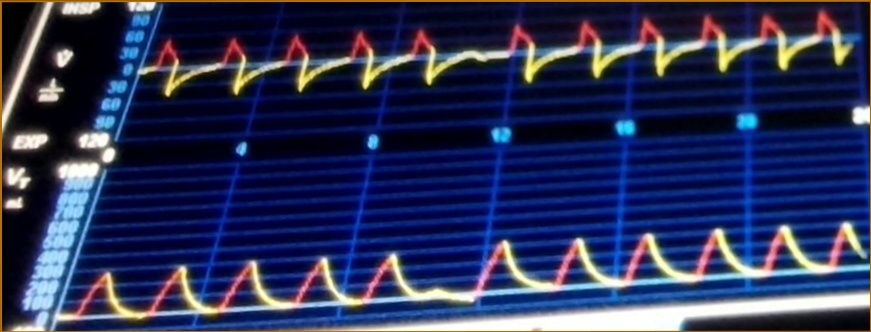Ineffective_effort Flow: (144, 8, 854, 106)
Ineffective_effort Volume: (72, 220, 870, 323)
